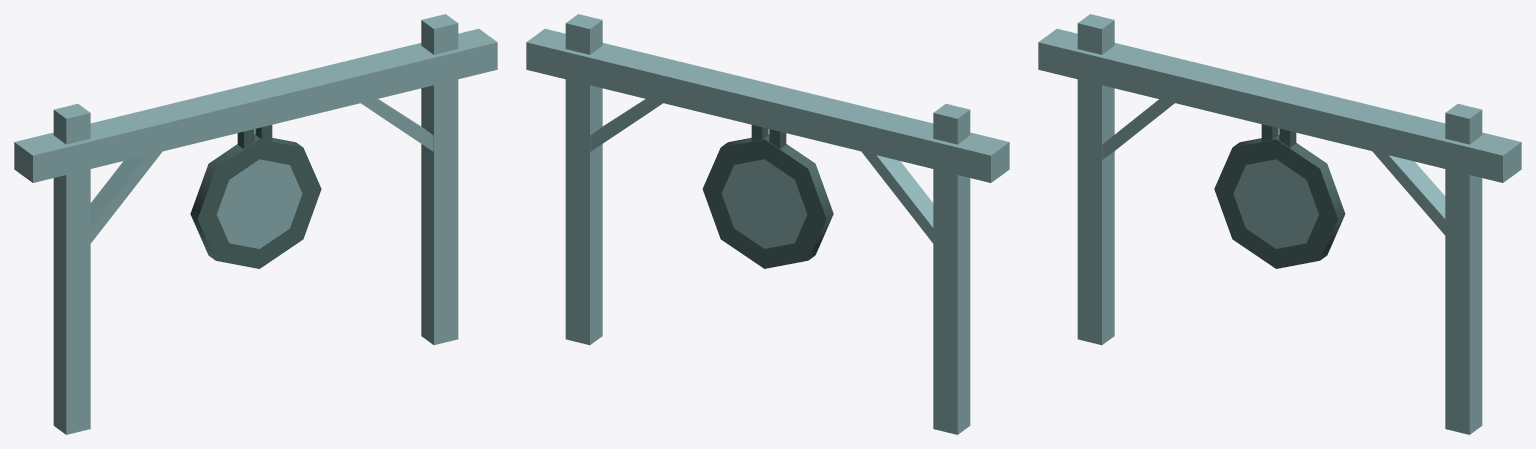
Rendered from big_gong_1.FBX.
3 views of the same model, side by side, from view 1: azimuth 30°, elevation 25°; view 2: azimuth 150°, elevation 25°; view 3: azimuth 330°, elevation 25° (orthographic).
Visible parts, largest first — view 1: big_gong_1; view 2: big_gong_1; view 3: big_gong_1.
Boxes of the visible parts, x1,y1,x2,y2 form: big_gong_1: [14, 14, 497, 434]; big_gong_1: [526, 14, 1009, 434]; big_gong_1: [1038, 14, 1521, 434].
Size of the model in its own units: 5.14 by 3.34 by 0.3566.
1 material, 1 textured.
